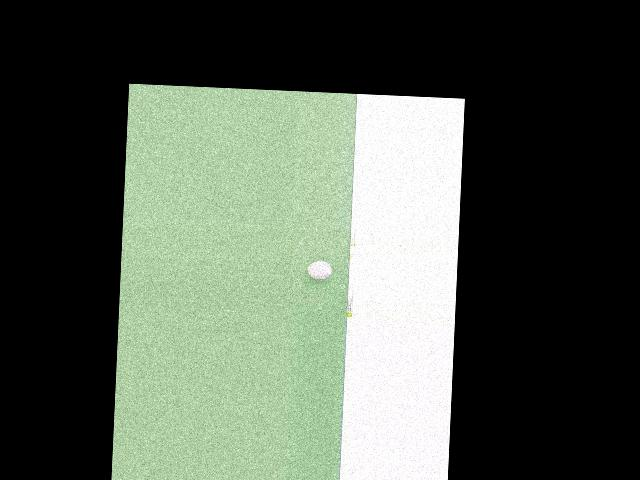egg: (307, 260, 332, 279)
